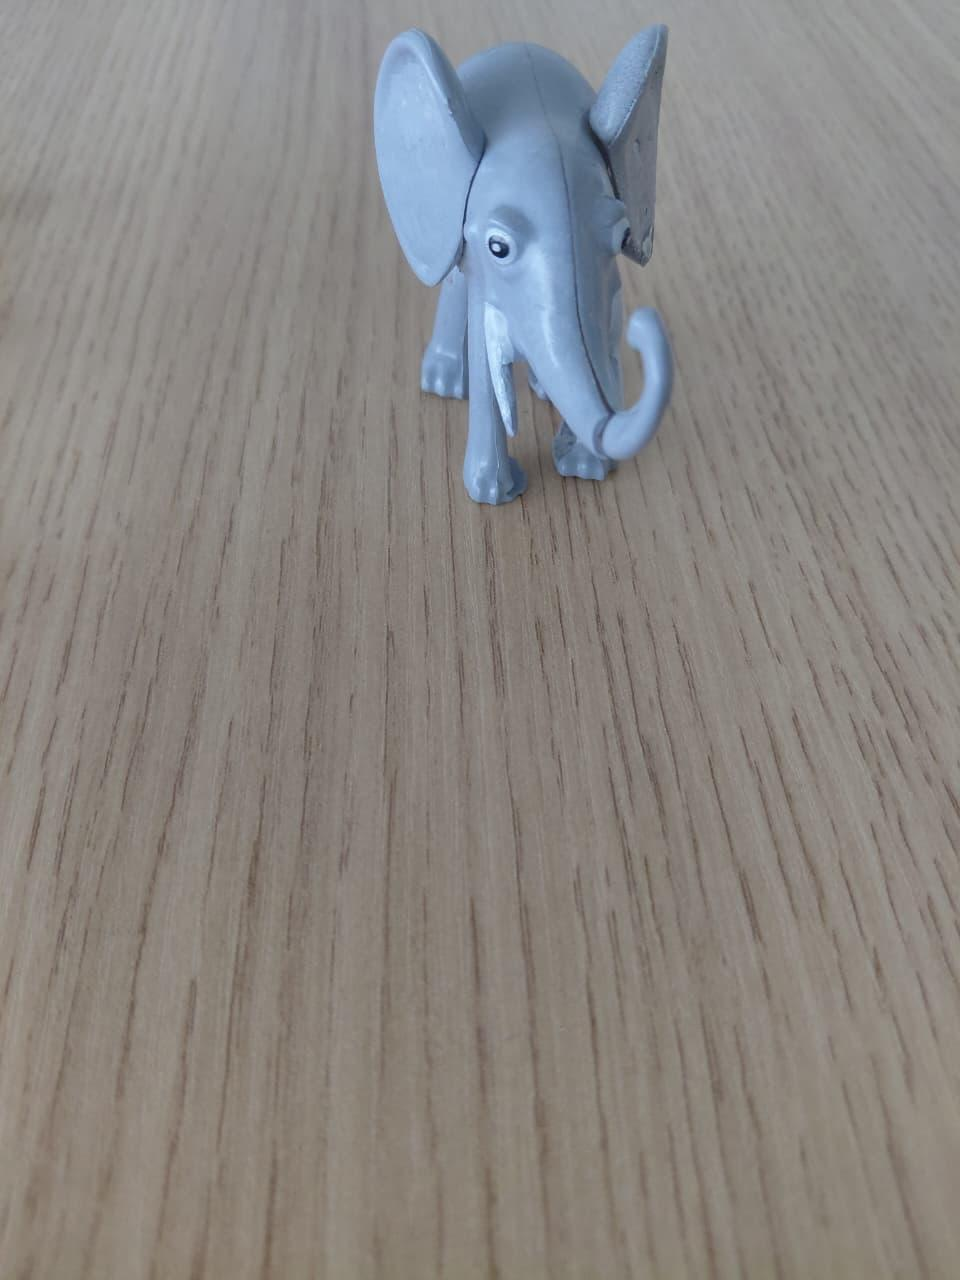elephant: (360, 23, 792, 531)
